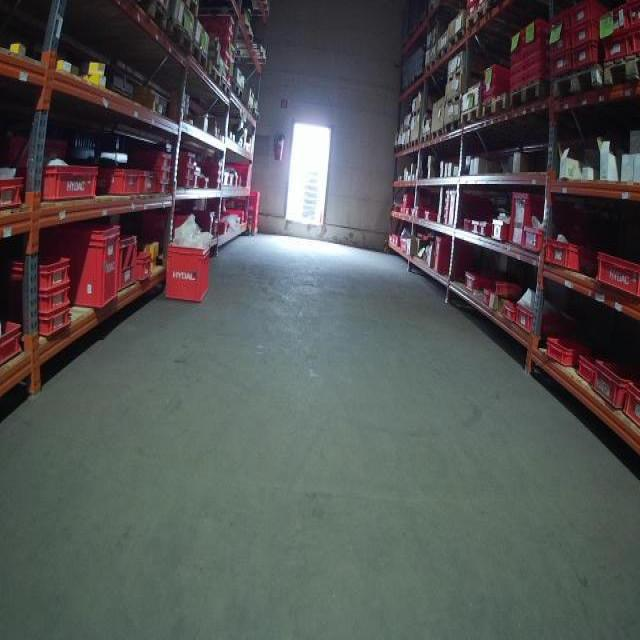pallet: (552, 63, 602, 101), (602, 52, 640, 89), (509, 77, 549, 111), (136, 0, 168, 34), (168, 18, 192, 58), (482, 92, 509, 120), (464, 1, 487, 33), (460, 105, 481, 129), (192, 43, 207, 74), (207, 62, 221, 89), (448, 30, 464, 51), (445, 93, 461, 109), (438, 42, 450, 62), (448, 69, 465, 83), (233, 82, 245, 101), (446, 118, 460, 134), (432, 125, 445, 142), (222, 79, 232, 99), (425, 59, 435, 74), (420, 135, 432, 145), (411, 138, 418, 150), (402, 143, 411, 152)
small_load_carrier: (55, 217, 126, 314), (26, 157, 98, 205), (166, 238, 217, 305), (5, 245, 74, 294), (506, 189, 558, 250), (592, 248, 640, 301), (594, 355, 637, 414), (516, 301, 567, 339), (544, 235, 592, 275), (542, 332, 592, 369), (117, 227, 144, 294), (100, 164, 141, 204), (25, 285, 76, 316), (1, 314, 28, 366), (37, 306, 77, 339), (1, 168, 24, 213), (132, 147, 173, 172), (221, 157, 250, 190), (578, 345, 597, 392), (461, 269, 495, 295), (522, 226, 548, 255), (486, 216, 511, 246), (500, 299, 525, 328), (626, 386, 640, 433), (139, 166, 155, 207), (139, 248, 157, 282), (494, 282, 523, 299), (147, 171, 173, 186), (150, 183, 168, 201), (177, 150, 196, 165), (177, 165, 196, 176), (177, 176, 193, 189)
